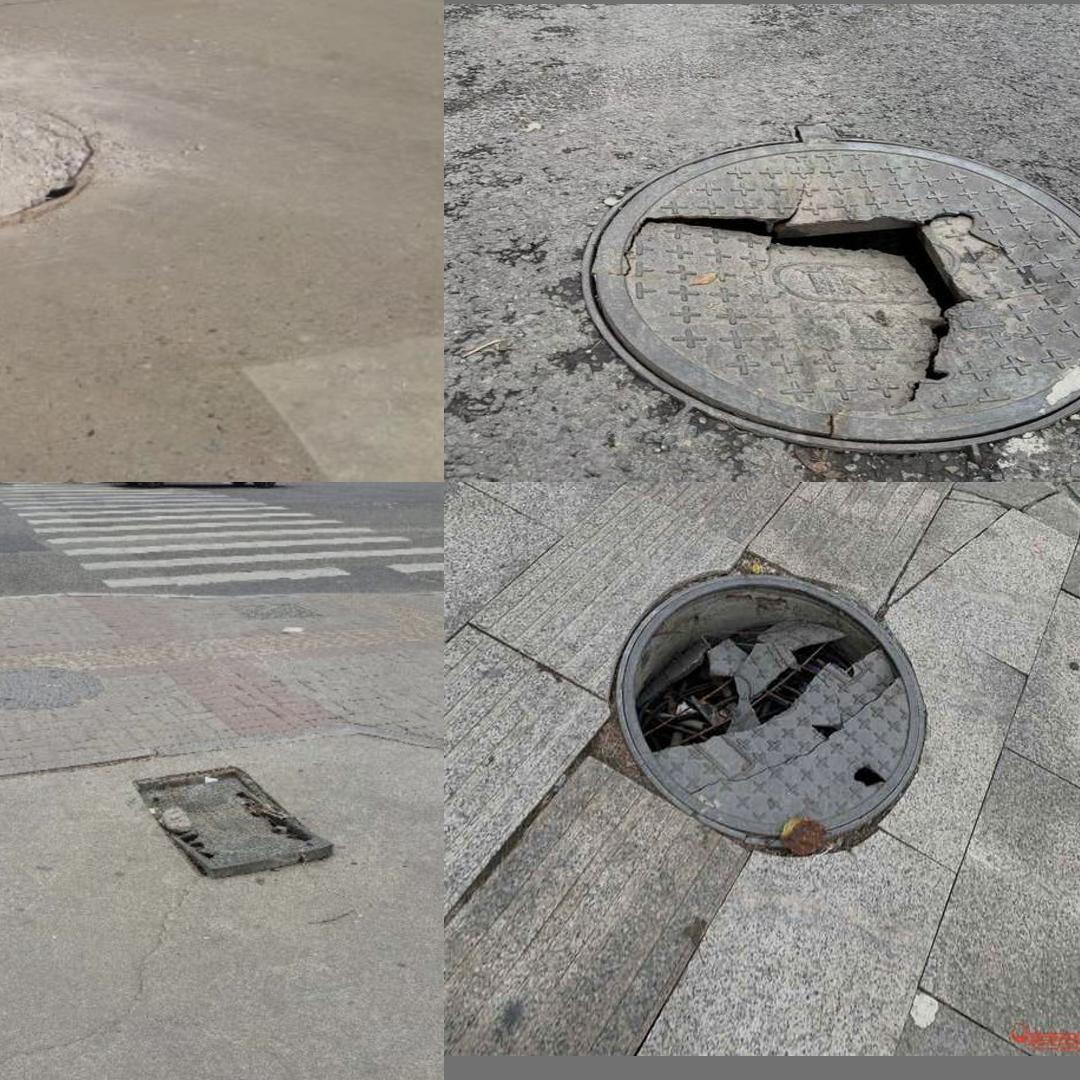broke: (571, 133, 1080, 450), (606, 563, 939, 860), (132, 765, 335, 877), (0, 96, 96, 238)
good: (0, 665, 104, 710)
